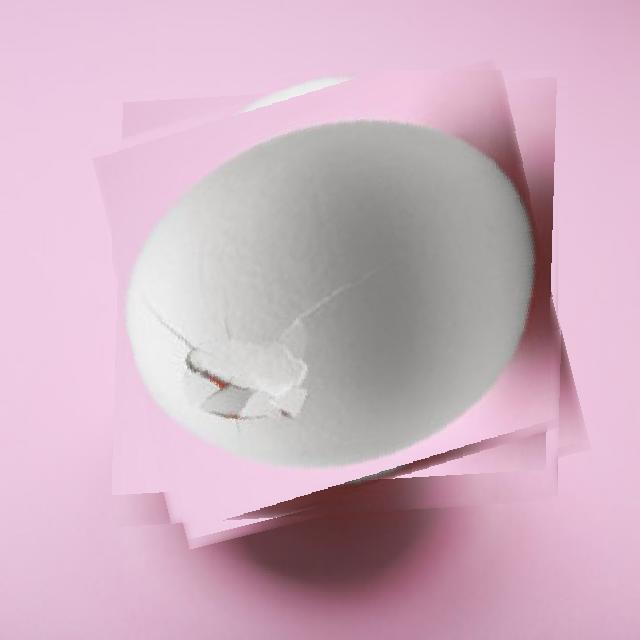biodegradable: (112, 70, 570, 528)
